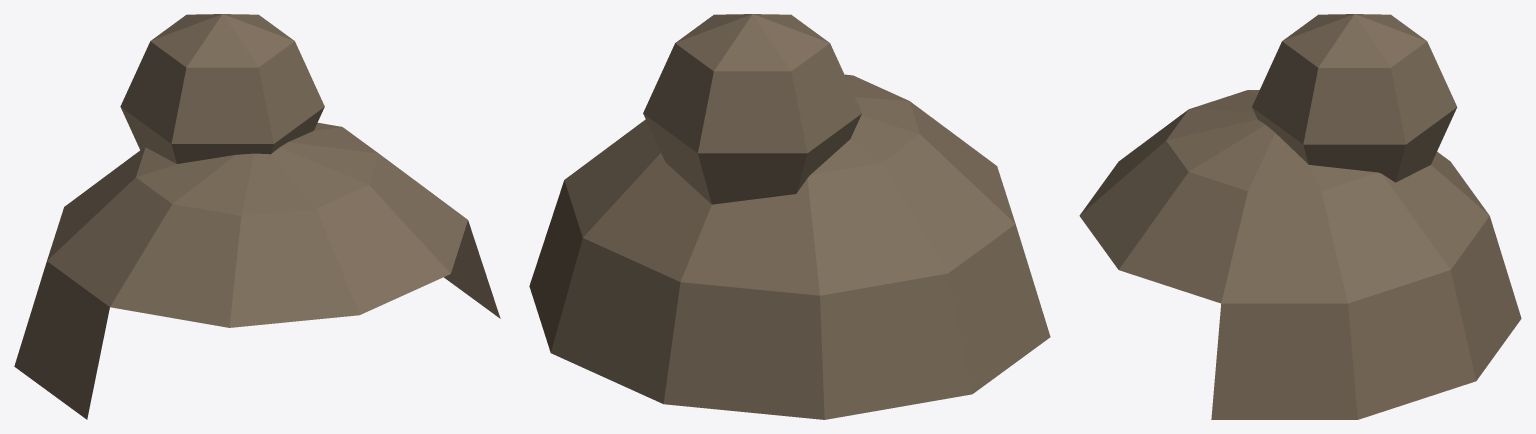
The model's file is bun.glb.
The picture shows the model from 3 angles, left to right: view 1: azimuth 30°, elevation 25°; view 2: azimuth 150°, elevation 25°; view 3: azimuth 270°, elevation 25°; orthographic projection. The views are drawn at different scales.
Visible parts, largest first — view 1: cap, bun; view 2: cap, bun; view 3: cap, bun.
Part boxes in pixels (x1,y1,x2,y2): cap: [14, 122, 500, 419]; bun: [120, 14, 324, 163]; cap: [529, 74, 1050, 419]; bun: [643, 14, 861, 204]; cap: [1079, 90, 1521, 419]; bun: [1252, 14, 1457, 182].
Size of the model in its own units: 0.5136 by 0.36 by 0.4736.
